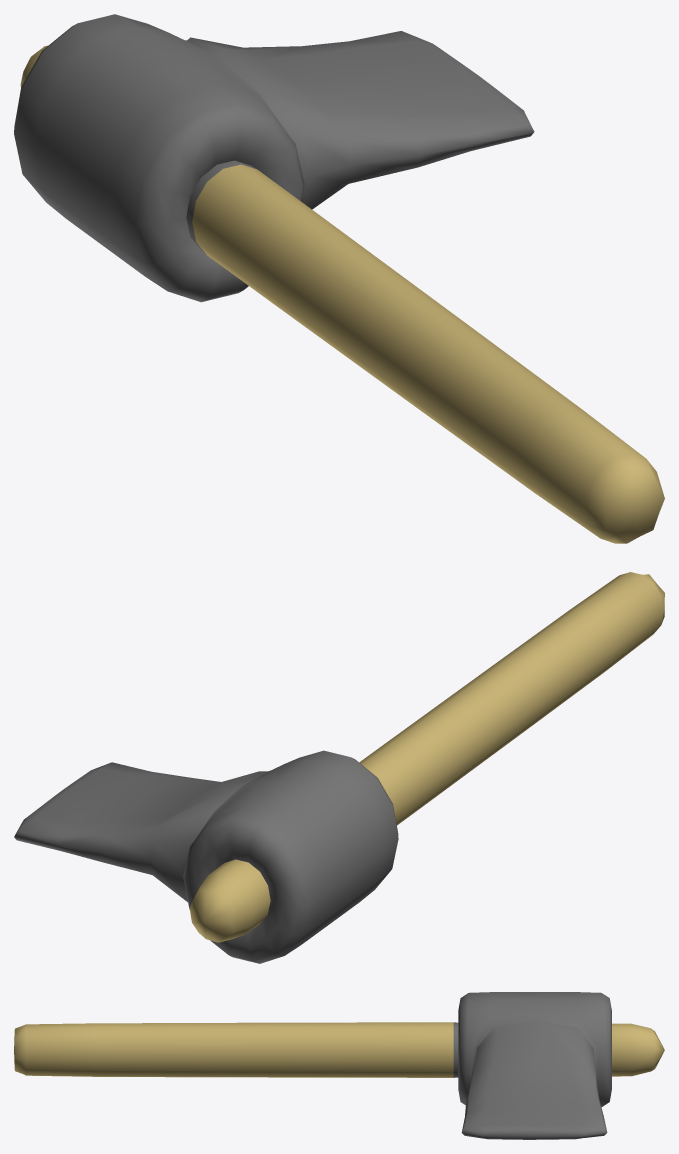
The model's file is balta.fbx.
3 renders of one model, top to bottom at view 1: azimuth 30°, elevation 25°; view 2: azimuth 150°, elevation 25°; view 3: azimuth 270°, elevation 25°, orthographic. The views are drawn at different scales.
Parts seen in each view (by area): view 1: Axe2; view 2: Axe2; view 3: Axe2.
Part boxes in pixels (x1,y1,x2,y2): Axe2: [14, 14, 664, 543]; Axe2: [14, 572, 664, 963]; Axe2: [14, 992, 664, 1139].
Size of the model in its own units: 40.7 by 18.73 by 103.
